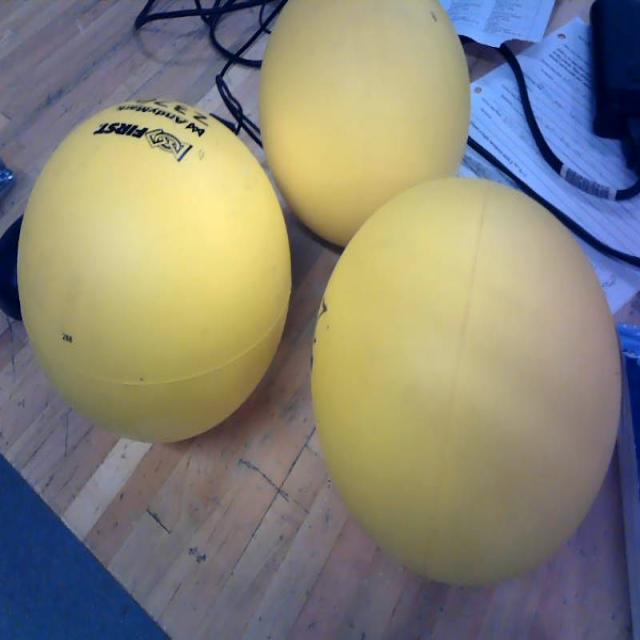Fuel: (310, 176, 623, 589), (17, 96, 293, 444), (257, 0, 471, 249)
